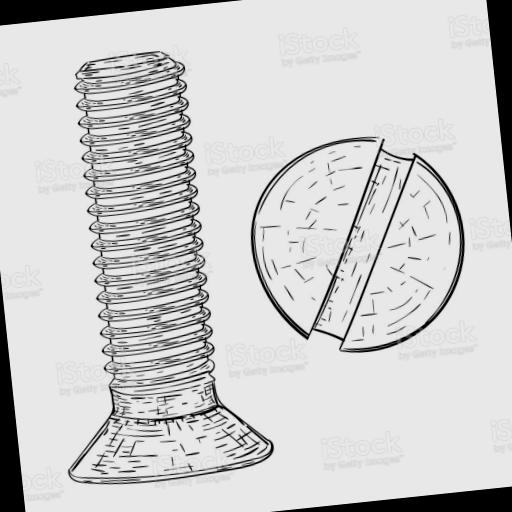Slotted: (244, 132, 470, 359)
